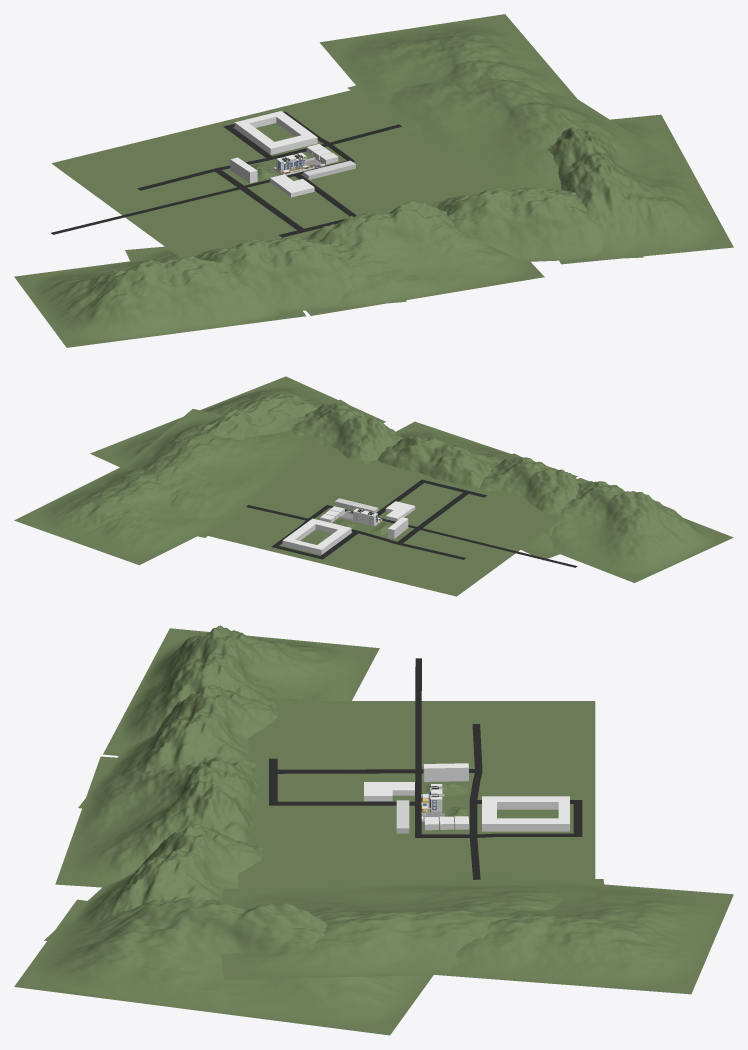
The model's file is exterior.glb.
3 views of the same model, one above another, from view 1: azimuth 30°, elevation 25°; view 2: azimuth 150°, elevation 25°; view 3: azimuth 270°, elevation 25° (orthographic). The views are drawn at different scales.
Visible parts, largest first — view 1: Plane.004, Landscape.002, Landscape.005, Landscape.004, Landscape, Landscape.006, Landscape.003, Landscape.001, Cube.001, Cube.250, Cube.249; view 2: Plane.004, Landscape.006, Landscape.002, Landscape.005, Landscape.004, Landscape, Landscape.001, Landscape.003, Cube.001, Cube.250, Cube.249; view 3: Plane.004, Landscape.004, Landscape.006, Landscape.005, Landscape, Landscape.002, Landscape.003, Landscape.001, Cube.001, Cube.250, Cube.249, Cube.005.
Part boxes in pixels (left/top/right/bottom): Plane.004: left=51, top=88, right=519, bottom=257; Landscape.002: left=14, top=256, right=306, bottom=347; Landscape.005: left=347, top=76, right=672, bottom=190; Landscape.004: left=547, top=114, right=733, bottom=264; Landscape: left=305, top=200, right=544, bottom=315; Landscape.006: left=319, top=14, right=577, bottom=136; Landscape.003: left=432, top=187, right=643, bottom=261; Landscape.001: left=125, top=236, right=406, bottom=312; Cube.001: left=51, top=111, right=401, bottom=237; Cube.250: left=234, top=111, right=317, bottom=154; Cube.249: left=270, top=174, right=314, bottom=197; Plane.004: left=202, top=441, right=565, bottom=596; Landscape.006: left=14, top=463, right=256, bottom=565; Landscape.002: left=550, top=478, right=733, bottom=582; Landscape.005: left=125, top=409, right=320, bottom=537; Landscape.004: left=90, top=376, right=385, bottom=467; Landscape: left=377, top=421, right=577, bottom=487; Landscape.001: left=480, top=453, right=584, bottom=560; Landscape.003: left=290, top=399, right=403, bottom=463; Cube.001: left=246, top=479, right=577, bottom=567; Cube.250: left=282, top=518, right=351, bottom=554; Cube.249: left=385, top=501, right=415, bottom=521; Plane.004: left=238, top=701, right=595, bottom=896; Landscape.004: left=14, top=897, right=433, bottom=1035; Landscape.006: left=436, top=876, right=733, bottom=994; Landscape.005: left=220, top=879, right=603, bottom=980; Landscape: left=55, top=756, right=258, bottom=887; Landscape.002: left=103, top=625, right=379, bottom=755; Landscape.003: left=44, top=824, right=263, bottom=940; Landscape.001: left=78, top=684, right=277, bottom=808; Cube.001: left=269, top=658, right=582, bottom=879; Cube.250: left=482, top=796, right=569, bottom=831; Cube.249: left=364, top=782, right=414, bottom=801; Cube.005: left=423, top=763, right=468, bottom=781.
Bounding box in the file's own units: 793 × 50.34 × 592.
